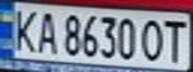0: (115, 15, 142, 61)
3: (97, 14, 118, 61)
6: (78, 11, 100, 58)
8: (60, 10, 84, 57)
A: (33, 8, 60, 55)
K: (6, 6, 42, 53)
O: (139, 16, 169, 62)
T: (157, 17, 190, 63)
